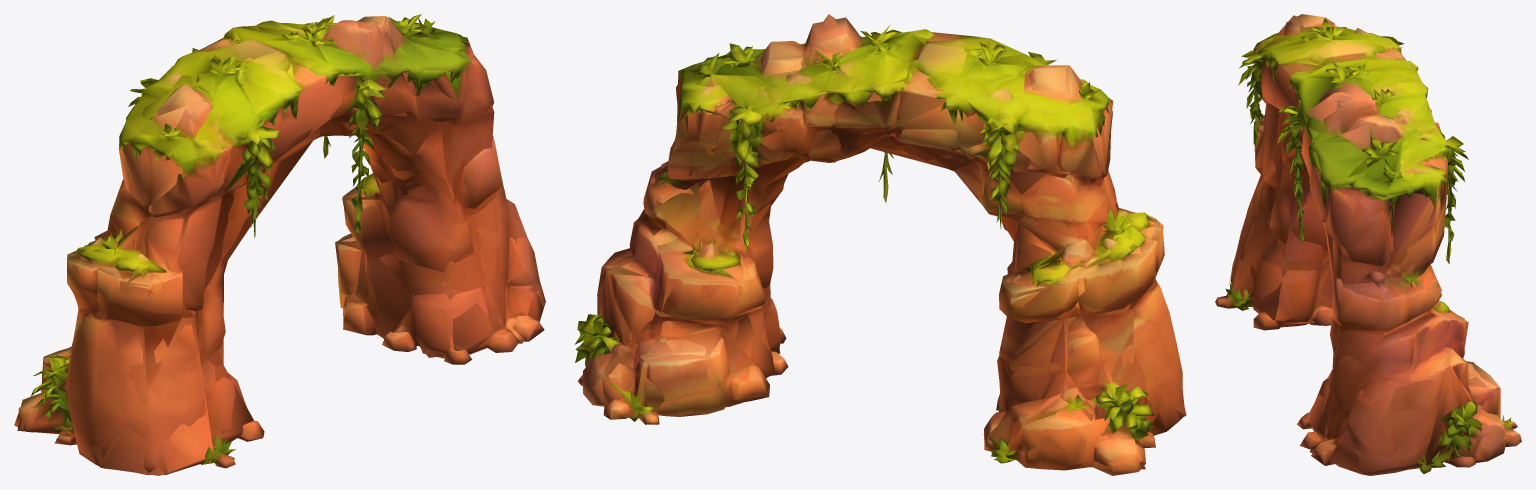
File: arco.glb
3 renders of one model, left to right at view 1: azimuth 30°, elevation 25°; view 2: azimuth 150°, elevation 25°; view 3: azimuth 270°, elevation 25°, orthographic. The views are drawn at different scales.
Parts seen in each view (by area): view 1: arco, arco-lod; view 2: arco, arco-lod; view 3: arco, arco-lod.
Boxes of the visible parts, x1=… form: arco: x1=14, y1=14, x2=545, y2=474; arco-lod: x1=17, y1=20, x2=544, y2=475; arco: x1=575, y1=17, x2=1184, y2=475; arco-lod: x1=585, y1=14, x2=1186, y2=469; arco: x1=1215, y1=14, x2=1521, y2=475; arco-lod: x1=1230, y1=15, x2=1519, y2=474.
Bounding box in the file's own units: 1 × 0.6462 × 0.5796.
Materials: 1 (1 with a texture image).
